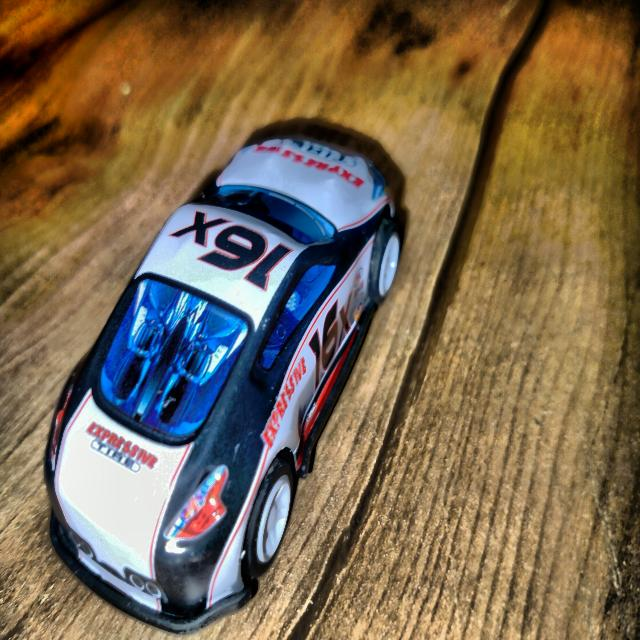Car: (46, 134, 402, 634)
